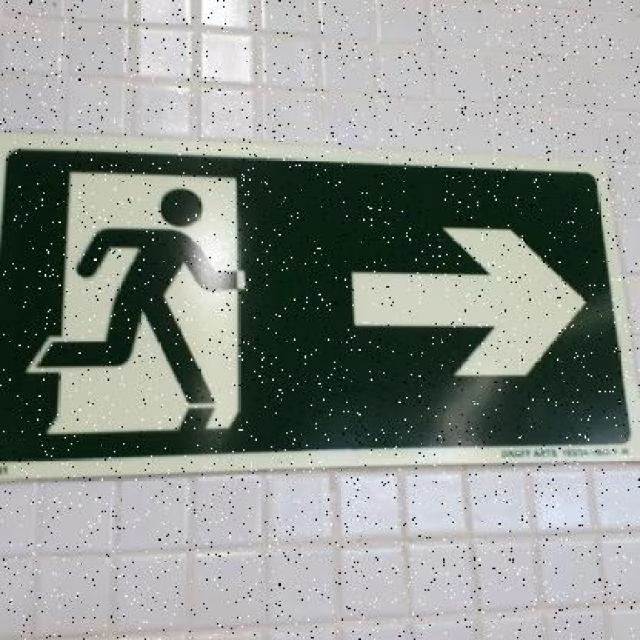emergency_exit: (1, 141, 637, 477)
